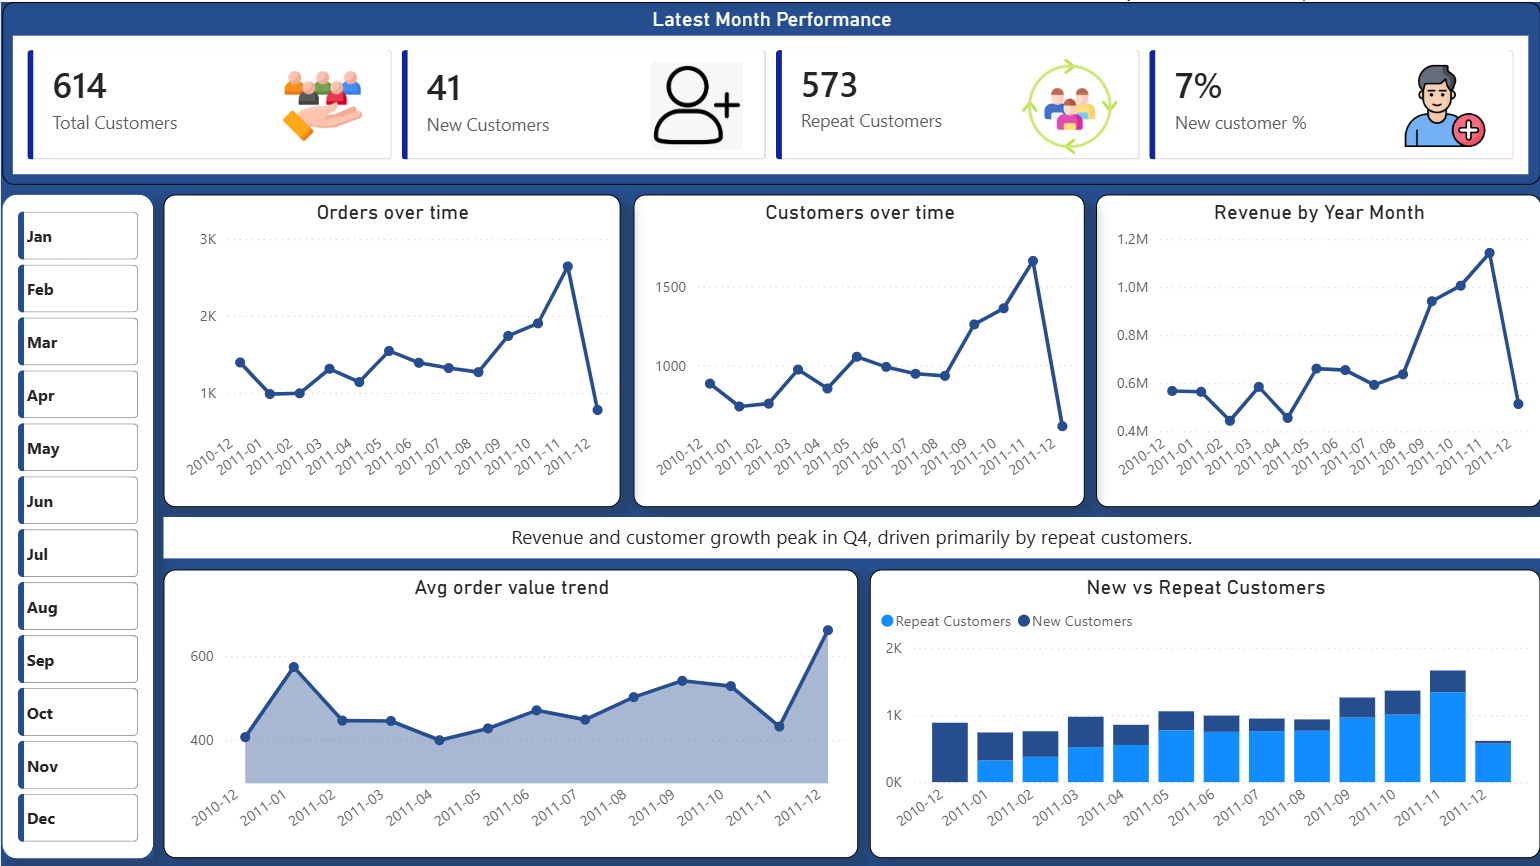

The page's visual inventory and layout, read from the dashboard file:
{"tool":"powerbi","page":{"name":"Trends over months","canvas":[1280,720],"ordinal":0},"visuals":[{"type":"shape","box":[1.1,160,125.6,552.2],"z":0},{"type":"advancedSlicerVisual","fields":{"Values":["Dim_Date.Month"]},"box":[8.9,168.9,110,535.6],"z":1000},{"type":"lineChart","title":"Revenue by Year Month","fields":{"Y":["Fact_Transactions.Total Revenue"],"Category":["Dim_Date.YearMonth"]},"box":[910,160,370,260],"z":2000},{"type":"lineChart","title":"Customers over time","fields":{"Category":["Dim_Date.YearMonth"],"Y":["Fact_Transactions.Total Customers"]},"box":[525.6,160,375.6,260],"z":3000},{"type":"lineChart","title":"Orders over time","fields":{"Category":["Dim_Date.YearMonth"],"Y":["Fact_Transactions.Total Orders"]},"box":[135.6,160,380,260],"z":4000},{"type":"areaChart","title":"Avg order value trend","fields":{"Category":["Dim_Date.YearMonth"],"Y":["Fact_Transactions.Avg_order_value"]},"box":[135.6,472.2,577.8,240],"z":5000},{"type":"columnChart","title":"New vs Repeat Customers","fields":{"Category":["Dim_Date.YearMonth"],"Y":["Fact_Transactions.Repeat Customers","Fact_Transactions.New Customers"]},"box":[722.2,472.2,557.8,240],"z":6000},{"type":"cardVisual","title":"Latest Month Performance","fields":{"Data":["Fact_Transactions.Latest Month Customers","Fact_Transactions.Latest Month New Customers","Fact_Transactions.Latest Month Repeat Customers","Fact_Transactions.Latest Month new customer percent"]},"box":[1.1,0,1278.9,152.2],"z":7000},{"type":"textbox","box":[135.6,427.8,1144.4,34.4],"z":8000}]}

Visuals, with their boxes in screenshot pixels (x1, y1, x2, y2), scaled from the page's 1280x720 canvas onto the 1540x866 screenshot:
shape: [left=1, top=192, right=152, bottom=857]
advancedSlicerVisual - Dim_Date.Month: [left=11, top=203, right=143, bottom=847]
"Revenue by Year Month" lineChart: [left=1095, top=192, right=1539, bottom=505]
"Customers over time" lineChart: [left=632, top=192, right=1084, bottom=505]
"Orders over time" lineChart: [left=163, top=192, right=620, bottom=505]
"Avg order value trend" areaChart: [left=163, top=568, right=858, bottom=857]
"New vs Repeat Customers" columnChart: [left=869, top=568, right=1539, bottom=857]
"Latest Month Performance" cardVisual: [left=1, top=0, right=1539, bottom=183]
textbox: [left=163, top=515, right=1539, bottom=556]
